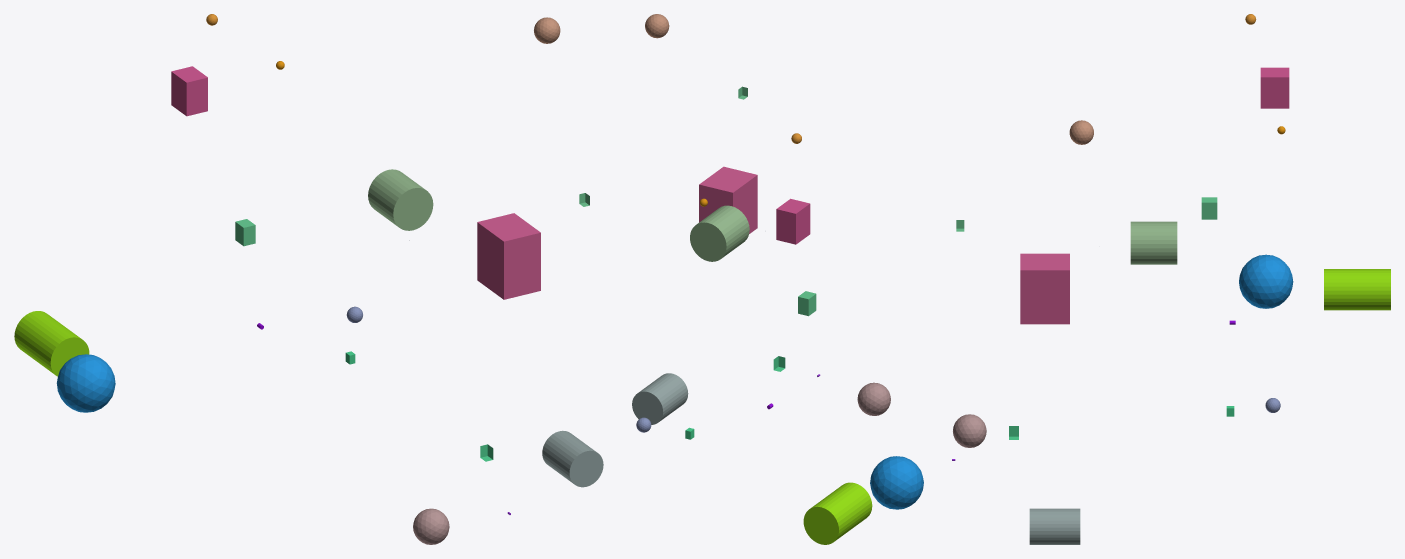
Rendered from basic_shapes_trimesh.glb.
The picture shows the model from 3 angles, left to right: view 1: azimuth 30°, elevation 25°; view 2: azimuth 150°, elevation 25°; view 3: azimuth 270°, elevation 25°; orthographic projection. The views are drawn at different scales.
Parts seen in each view (by area): view 1: world; view 2: world; view 3: world.
Part boxes in pixels (bbox=[...]): world: bbox=[14, 14, 603, 544]; world: bbox=[632, 14, 923, 544]; world: bbox=[952, 14, 1390, 544].
Size of the model in its own units: 3.97 by 4.12 by 3.93.
